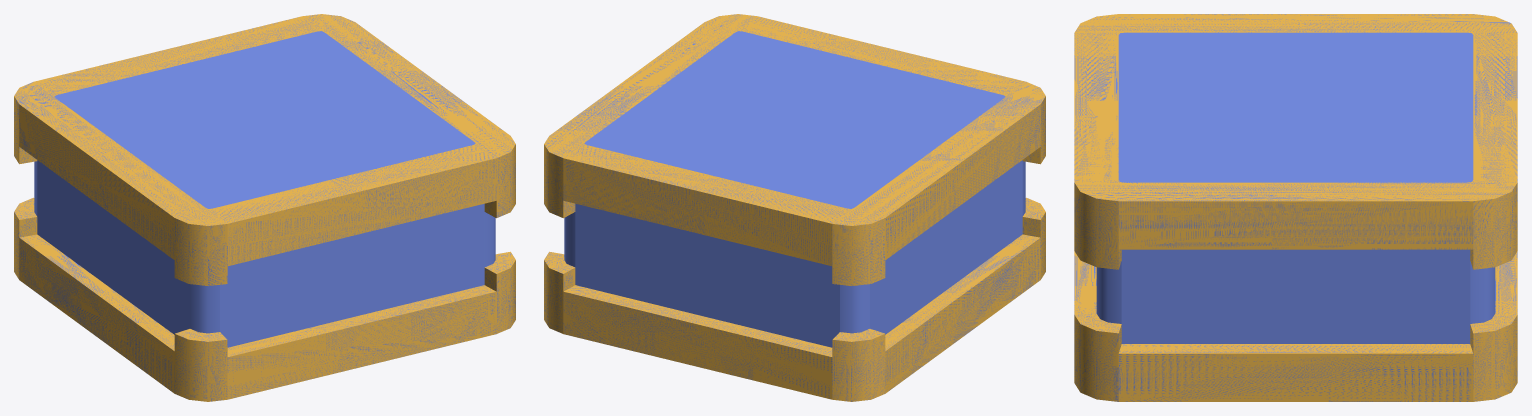
File: blockMovingRed.dae
3 renders of one model, left to right at view 1: azimuth 30°, elevation 25°; view 2: azimuth 150°, elevation 25°; view 3: azimuth 270°, elevation 25°, orthographic. The views are drawn at different scales.
Visible parts, largest first — view 1: blockMovingRed; view 2: blockMovingRed; view 3: blockMovingRed.
Boxes of the visible parts, x1,y1,x2,y2 form: blockMovingRed: [14, 14, 515, 401]; blockMovingRed: [544, 14, 1045, 401]; blockMovingRed: [1074, 14, 1517, 401].
Bounding box in the file's own units: 1 × 0.5 × 1.
